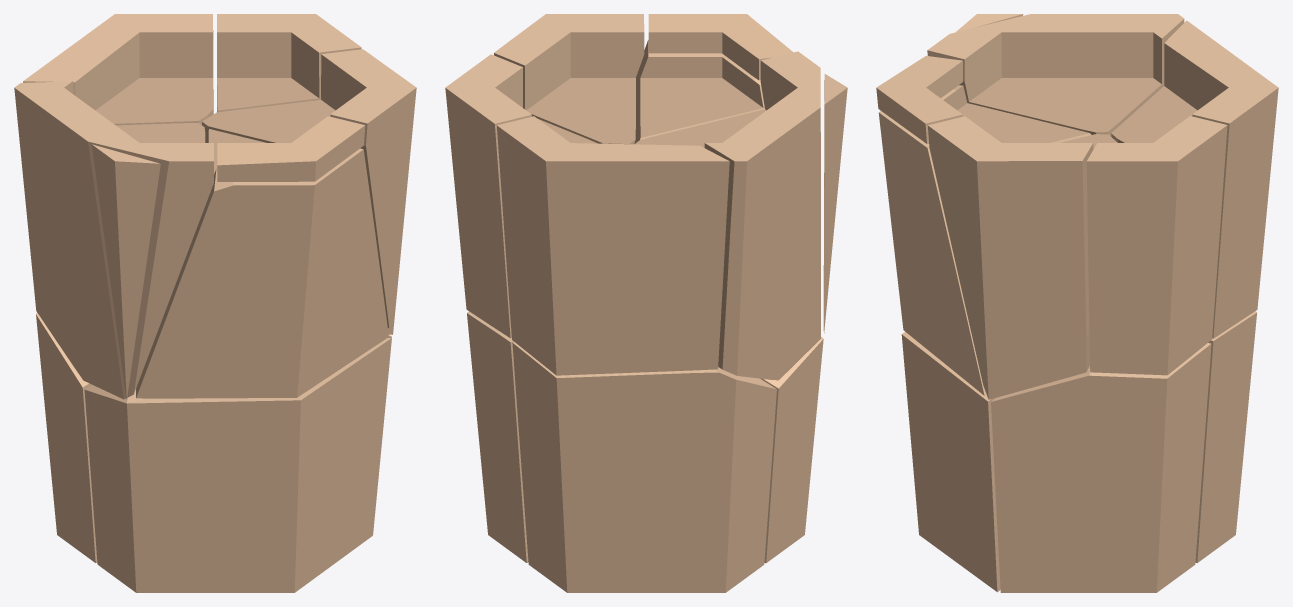
File: bigplant_broken.glb
3 renders of one model, left to right at view 1: azimuth 30°, elevation 25°; view 2: azimuth 150°, elevation 25°; view 3: azimuth 270°, elevation 25°, orthographic.
Visible parts, largest first — view 1: pottedPlant(Clone)_cell.005, pottedPlant(Clone)_cell.007, pottedPlant(Clone)_cell.002, pottedPlant(Clone)_cell.003, pottedPlant(Clone)_cell, pottedPlant(Clone)_cell.001, pottedPlant(Clone)_cell.006, pottedPlant(Clone)_cell.009, pottedPlant(Clone)_cell.008; view 2: pottedPlant(Clone)_cell.009, pottedPlant(Clone)_cell, pottedPlant(Clone)_cell.002, pottedPlant(Clone)_cell.003, pottedPlant(Clone)_cell.001, pottedPlant(Clone)_cell.004, pottedPlant(Clone)_cell.007, pottedPlant(Clone)_cell.005, pottedPlant(Clone)_cell.008, pottedPlant(Clone)_cell.006; view 3: pottedPlant(Clone)_cell.004, pottedPlant(Clone)_cell.003, pottedPlant(Clone)_cell.001, pottedPlant(Clone)_cell.002, pottedPlant(Clone)_cell, pottedPlant(Clone)_cell.007, pottedPlant(Clone)_cell.005, pottedPlant(Clone)_cell.009, pottedPlant(Clone)_cell.008.
Boxes of the visible parts, x1,y1,x2,y2 form: pottedPlant(Clone)_cell.005: (84, 338, 391, 592); pottedPlant(Clone)_cell.007: (136, 129, 388, 398); pottedPlant(Clone)_cell.002: (14, 81, 213, 399); pottedPlant(Clone)_cell.003: (202, 49, 416, 334); pottedPlant(Clone)_cell: (23, 14, 213, 125); pottedPlant(Clone)_cell.001: (217, 14, 361, 112); pottedPlant(Clone)_cell.006: (91, 144, 160, 399); pottedPlant(Clone)_cell.009: (36, 312, 97, 562); pottedPlant(Clone)_cell.008: (217, 116, 365, 181); pottedPlant(Clone)_cell.009: (512, 342, 776, 592); pottedPlant(Clone)_cell: (497, 116, 729, 375); pottedPlant(Clone)_cell.002: (635, 51, 820, 380); pottedPlant(Clone)_cell.003: (494, 14, 644, 144); pottedPlant(Clone)_cell.001: (445, 54, 597, 338); pottedPlant(Clone)_cell.004: (467, 311, 528, 562); pottedPlant(Clone)_cell.007: (634, 40, 764, 143); pottedPlant(Clone)_cell.005: (760, 337, 823, 563); pottedPlant(Clone)_cell.008: (648, 14, 793, 80); pottedPlant(Clone)_cell.006: (823, 74, 847, 333); pottedPlant(Clone)_cell.004: (991, 343, 1211, 592); pottedPlant(Clone)_cell.003: (927, 116, 1117, 399); pottedPlant(Clone)_cell.001: (1086, 116, 1227, 375); pottedPlant(Clone)_cell.002: (927, 14, 1184, 136); pottedPlant(Clone)_cell: (1111, 20, 1278, 338); pottedPlant(Clone)_cell.007: (878, 85, 1091, 395); pottedPlant(Clone)_cell.005: (901, 331, 1000, 592); pottedPlant(Clone)_cell.009: (1195, 311, 1256, 562); pottedPlant(Clone)_cell.008: (876, 56, 962, 143).
Size of the model in its own units: 0.1716 by 0.243 by 0.1981.
